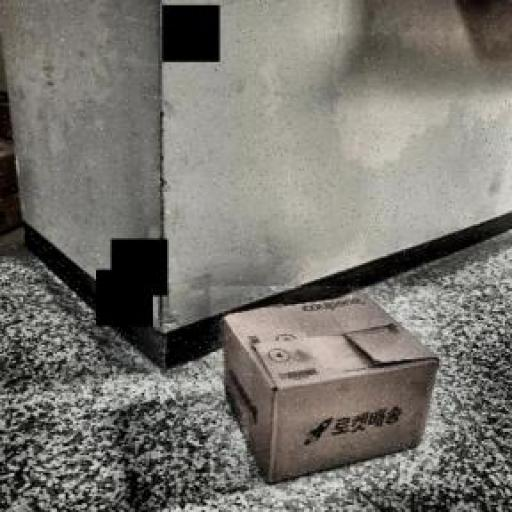box: (210, 286, 436, 489)
